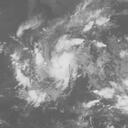cyclone: (20, 20, 111, 107)
